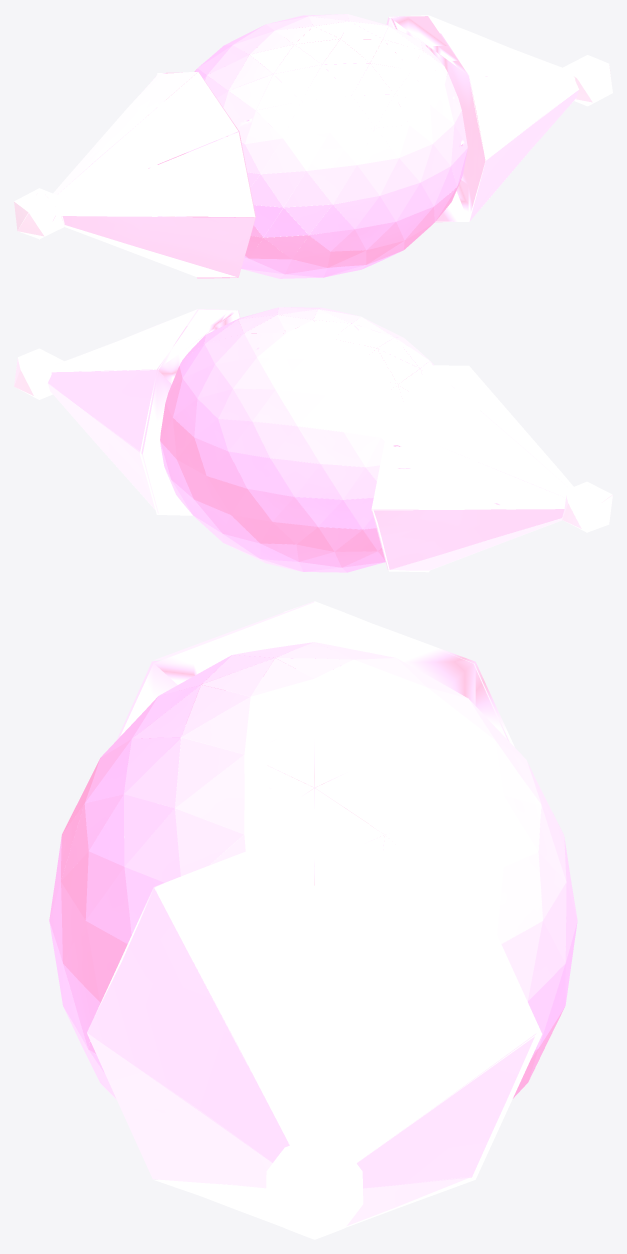
The model's file is halloween_candy.glb.
3 views of the same model, one above another, from view 1: azimuth 30°, elevation 25°; view 2: azimuth 150°, elevation 25°; view 3: azimuth 270°, elevation 25° (orthographic). The views are drawn at different scales.
Parts seen in each view (by area): view 1: Candy; view 2: Candy; view 3: Candy.
Boxes of the visible parts, x1,y1,x2,y2 form: Candy: [14, 14, 612, 278]; Candy: [14, 307, 612, 572]; Candy: [49, 601, 577, 1239].
Bounding box in the file's own units: 2.16 × 0.8384 × 0.8356.
